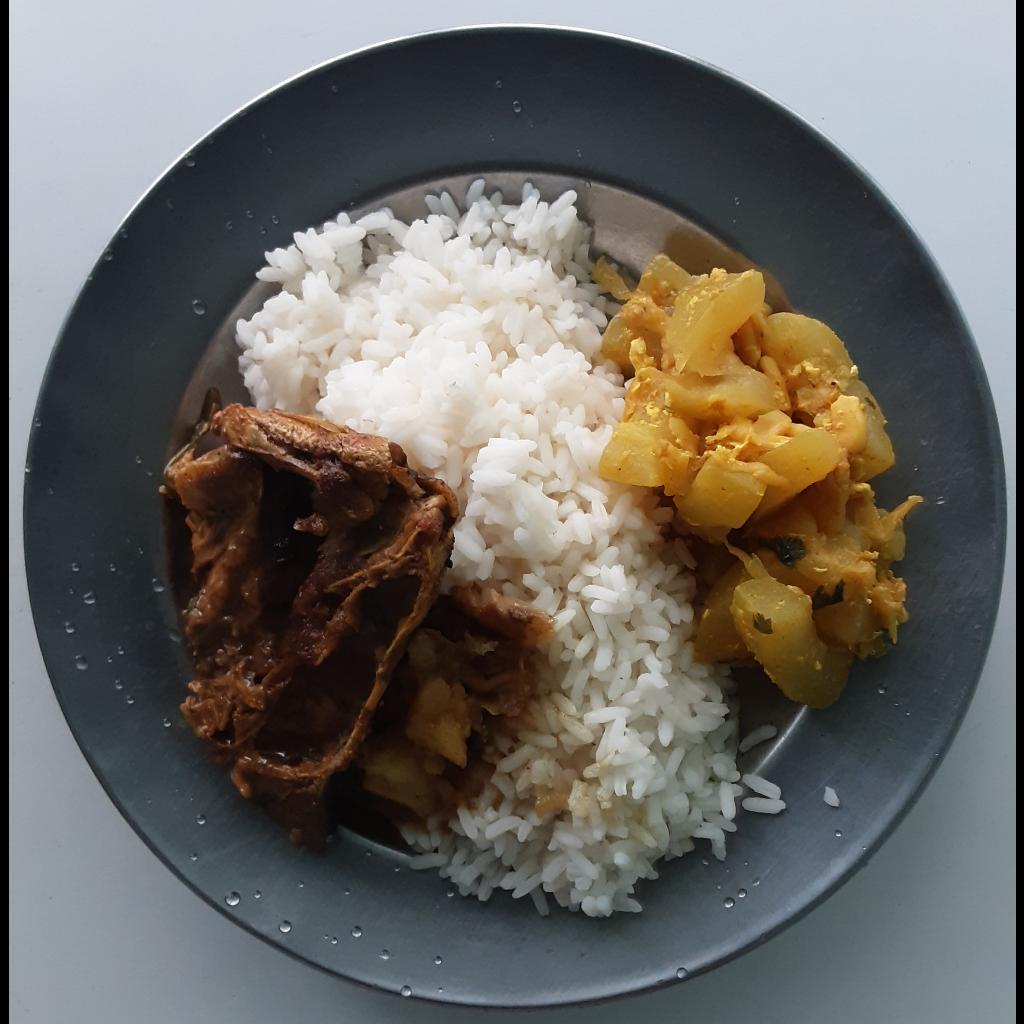fish: (166, 407, 457, 848)
lau: (594, 250, 924, 704)
potato: (353, 587, 546, 829)
rice: (234, 177, 784, 921)
